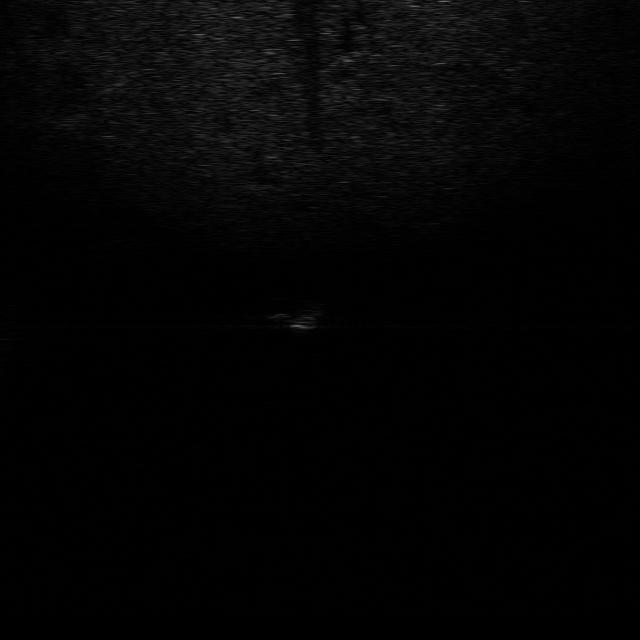human body: (264, 302, 328, 336)
